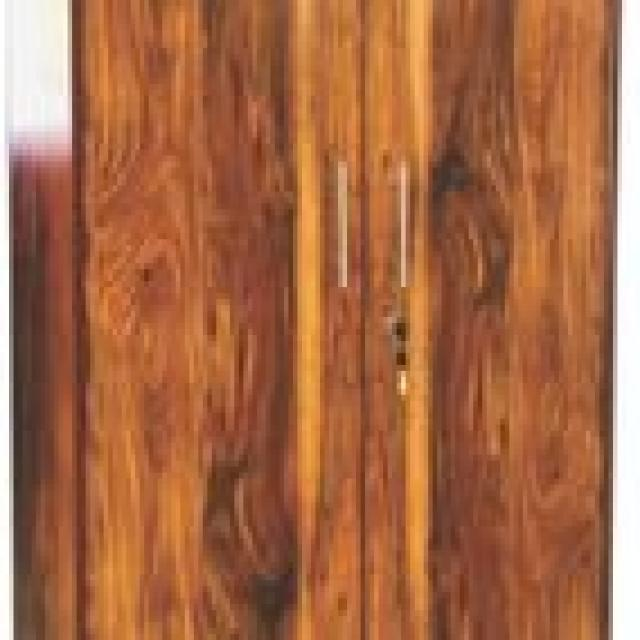others: (13, 6, 613, 628)
